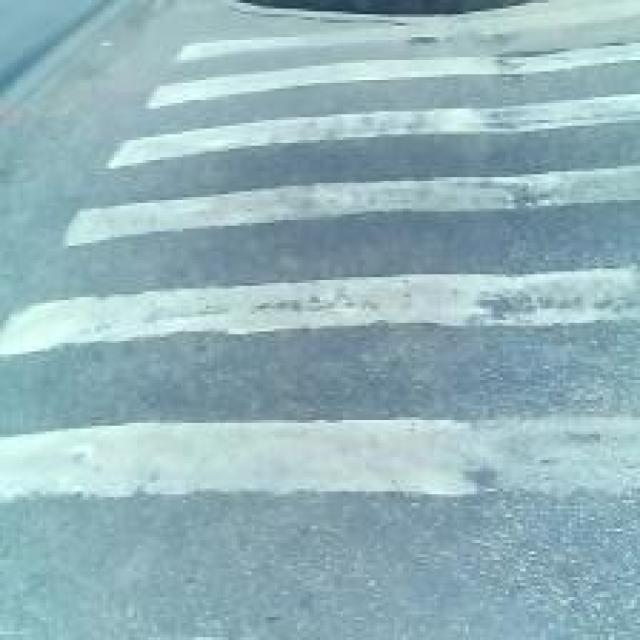walk-crossing: (176, 28, 627, 603)
